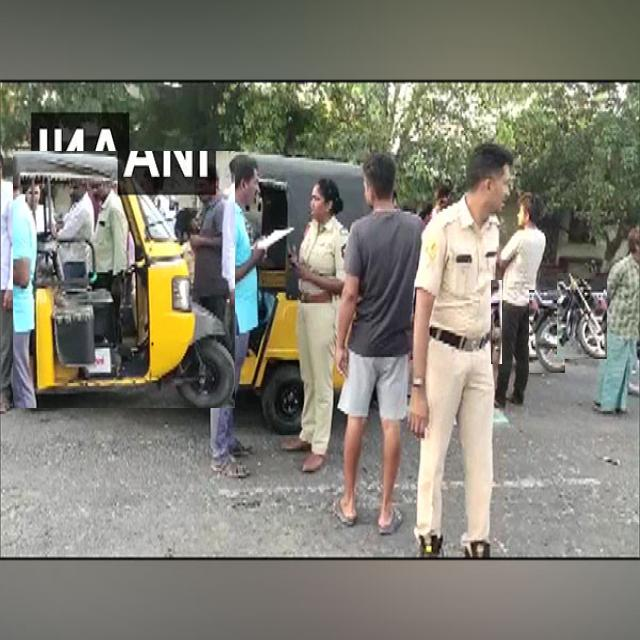autorickshaw: (13, 152, 234, 408), (240, 155, 366, 433)
motorcycle: (557, 274, 606, 359), (529, 290, 565, 373), (491, 280, 501, 364)
